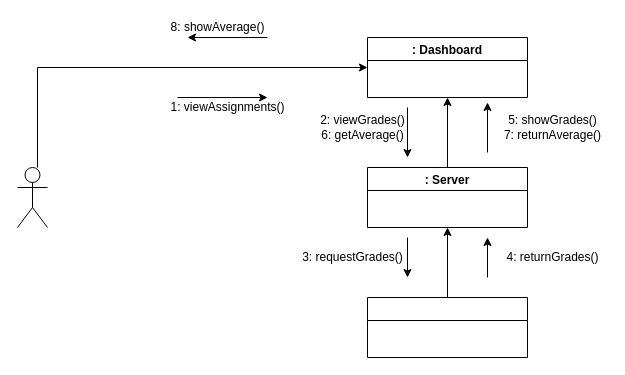
The diagram is 625 pixels wide and 375 high, and some of its shapes have lost their labels. The shapes that lost their labels are listed below. From the top down, each one's centre as x and y in pixels, then its label:
At (x=32, y=197): "User".
At (x=447, y=327): ": Database".
